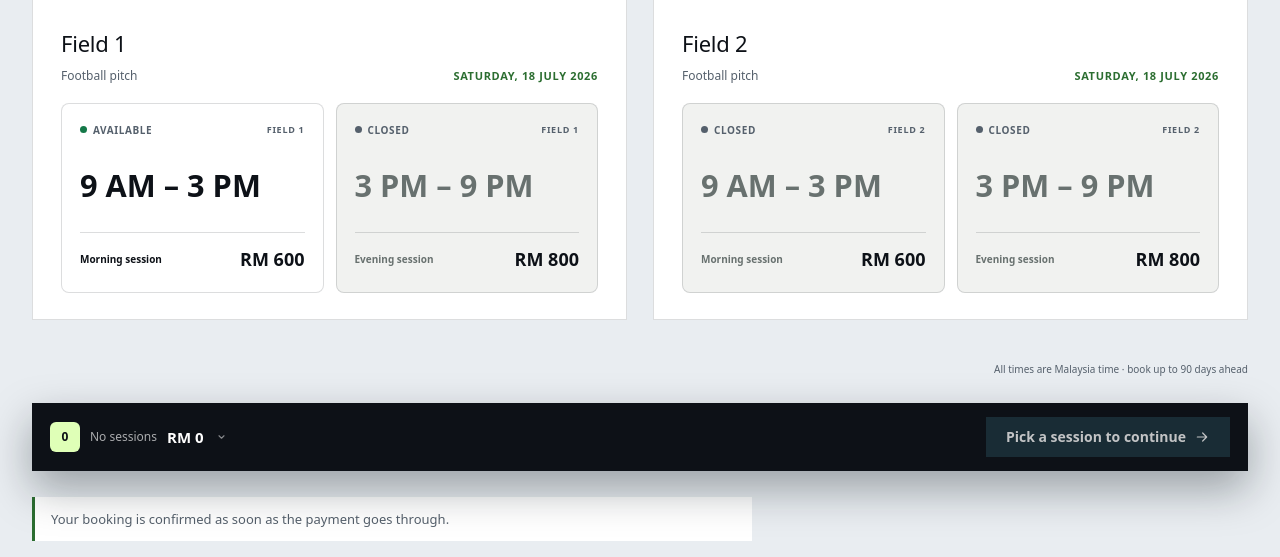
BookingWizard › allows removing a session from the cart drawer via the remove button
(page scrolled)
What coordinates should you click on to do the following:
click the button "Available Field 1 9 AM – 3 PM Morning session RM 600"
I would click on:
 (192, 198)
Its box is x1=61 y1=103 x2=324 y2=293.
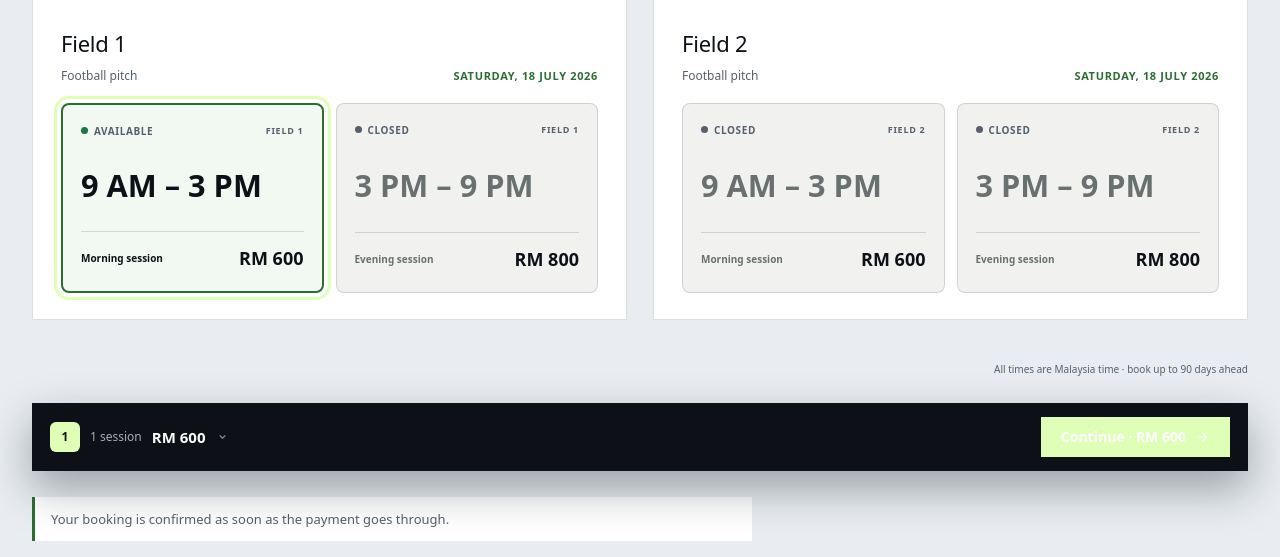
Result: the text "1 session" is shown at x1=90 y1=427 x2=142 y2=446
Open cart drawer
What coordinates should you click on to do the following:
click the button "1 1 session RM 600"
I would click on:
 (140, 437)
Its box is x1=50 y1=422 x2=230 y2=452.
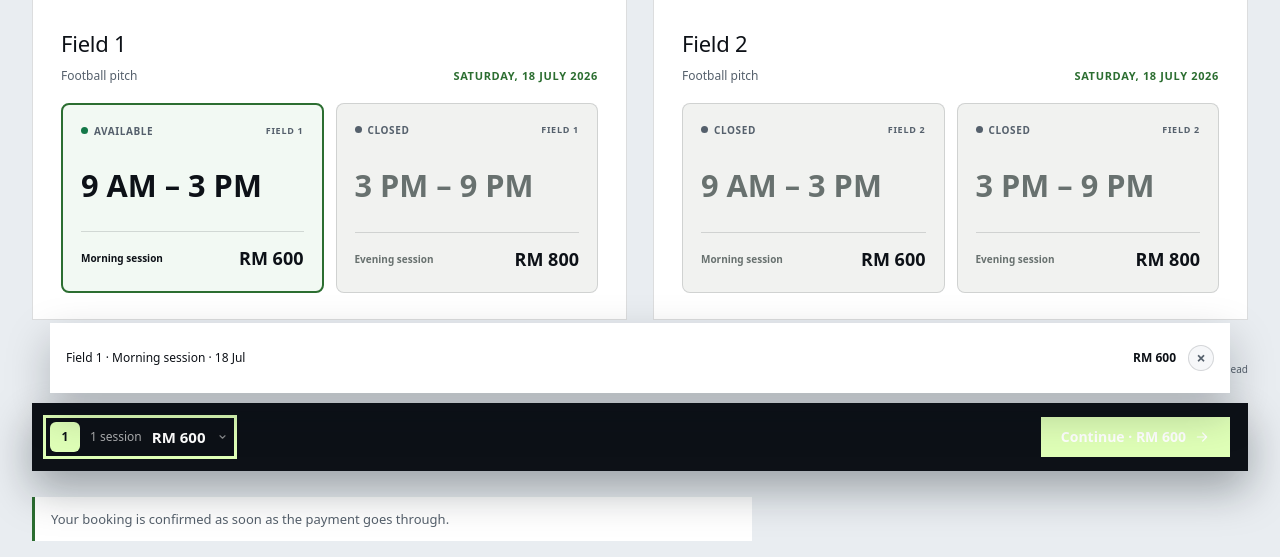
Result: the button named "remove field 1 session" is shown
Click remove button
What coordinates should you click on to do the following:
click the button named "remove field 1 session"
I would click on:
 (1201, 358)
Its box is x1=1188 y1=345 x2=1214 y2=371.
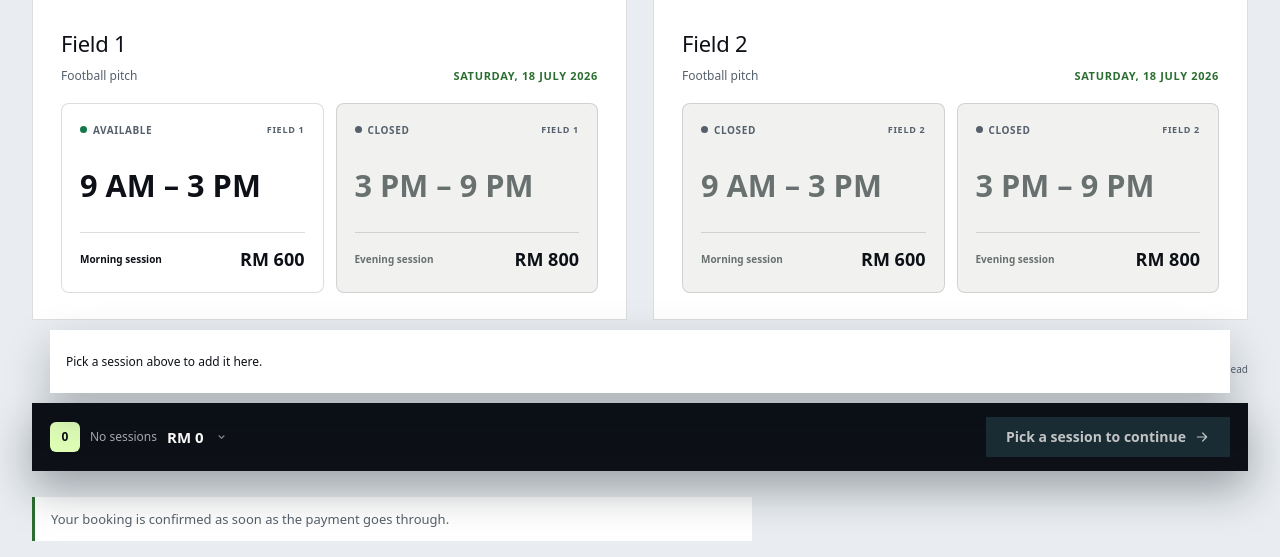
Result: the text "No sessions" is shown at x1=90 y1=427 x2=157 y2=446
Result: the list item "Pick a session above to add it here." is shown at x1=66 y1=353 x2=262 y2=370
